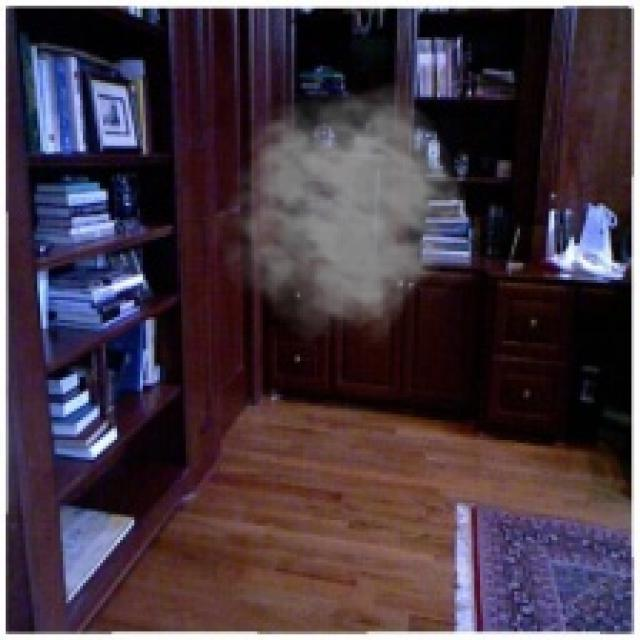Smoke: (208, 82, 468, 348)
